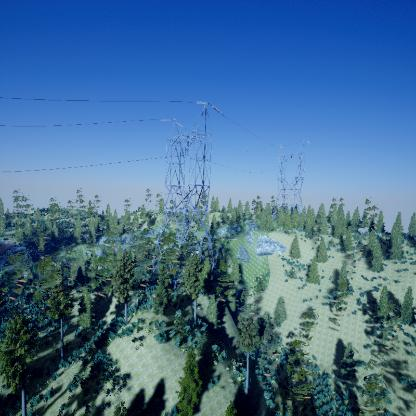tower: (149, 96, 228, 289)
